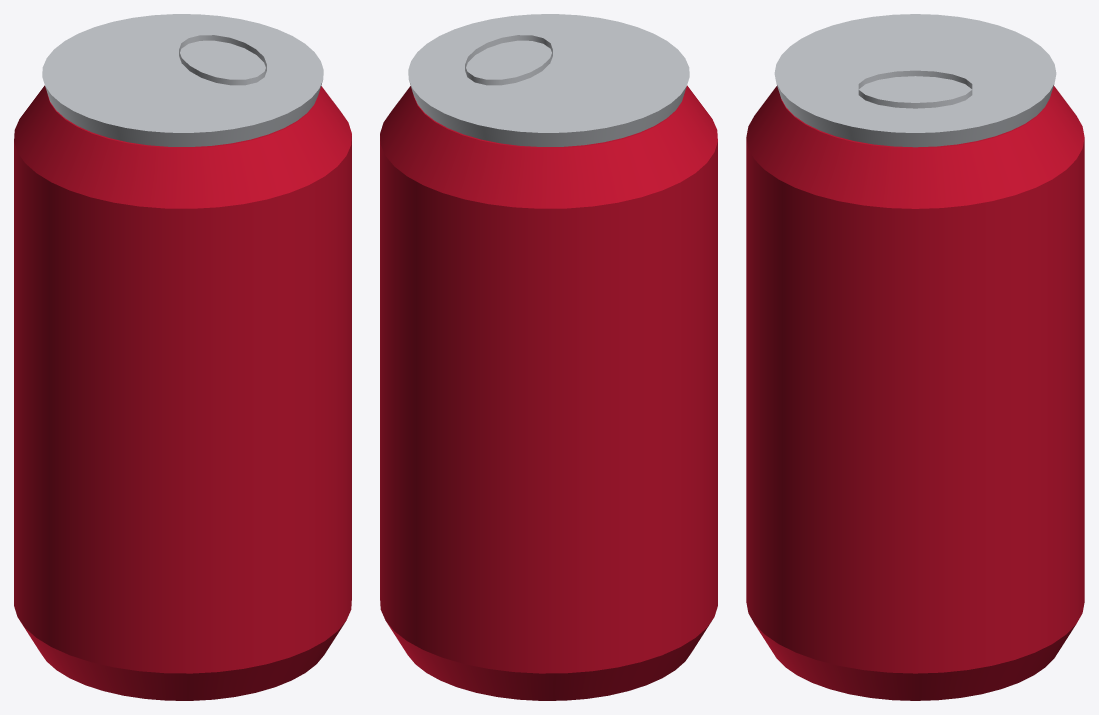
File: lata.glb
3 views of the same model, side by side, from view 1: azimuth 30°, elevation 25°; view 2: azimuth 150°, elevation 25°; view 3: azimuth 270°, elevation 25° (orthographic).
Size of the model in its own units: 0.0659 by 0.123 by 0.0659.
